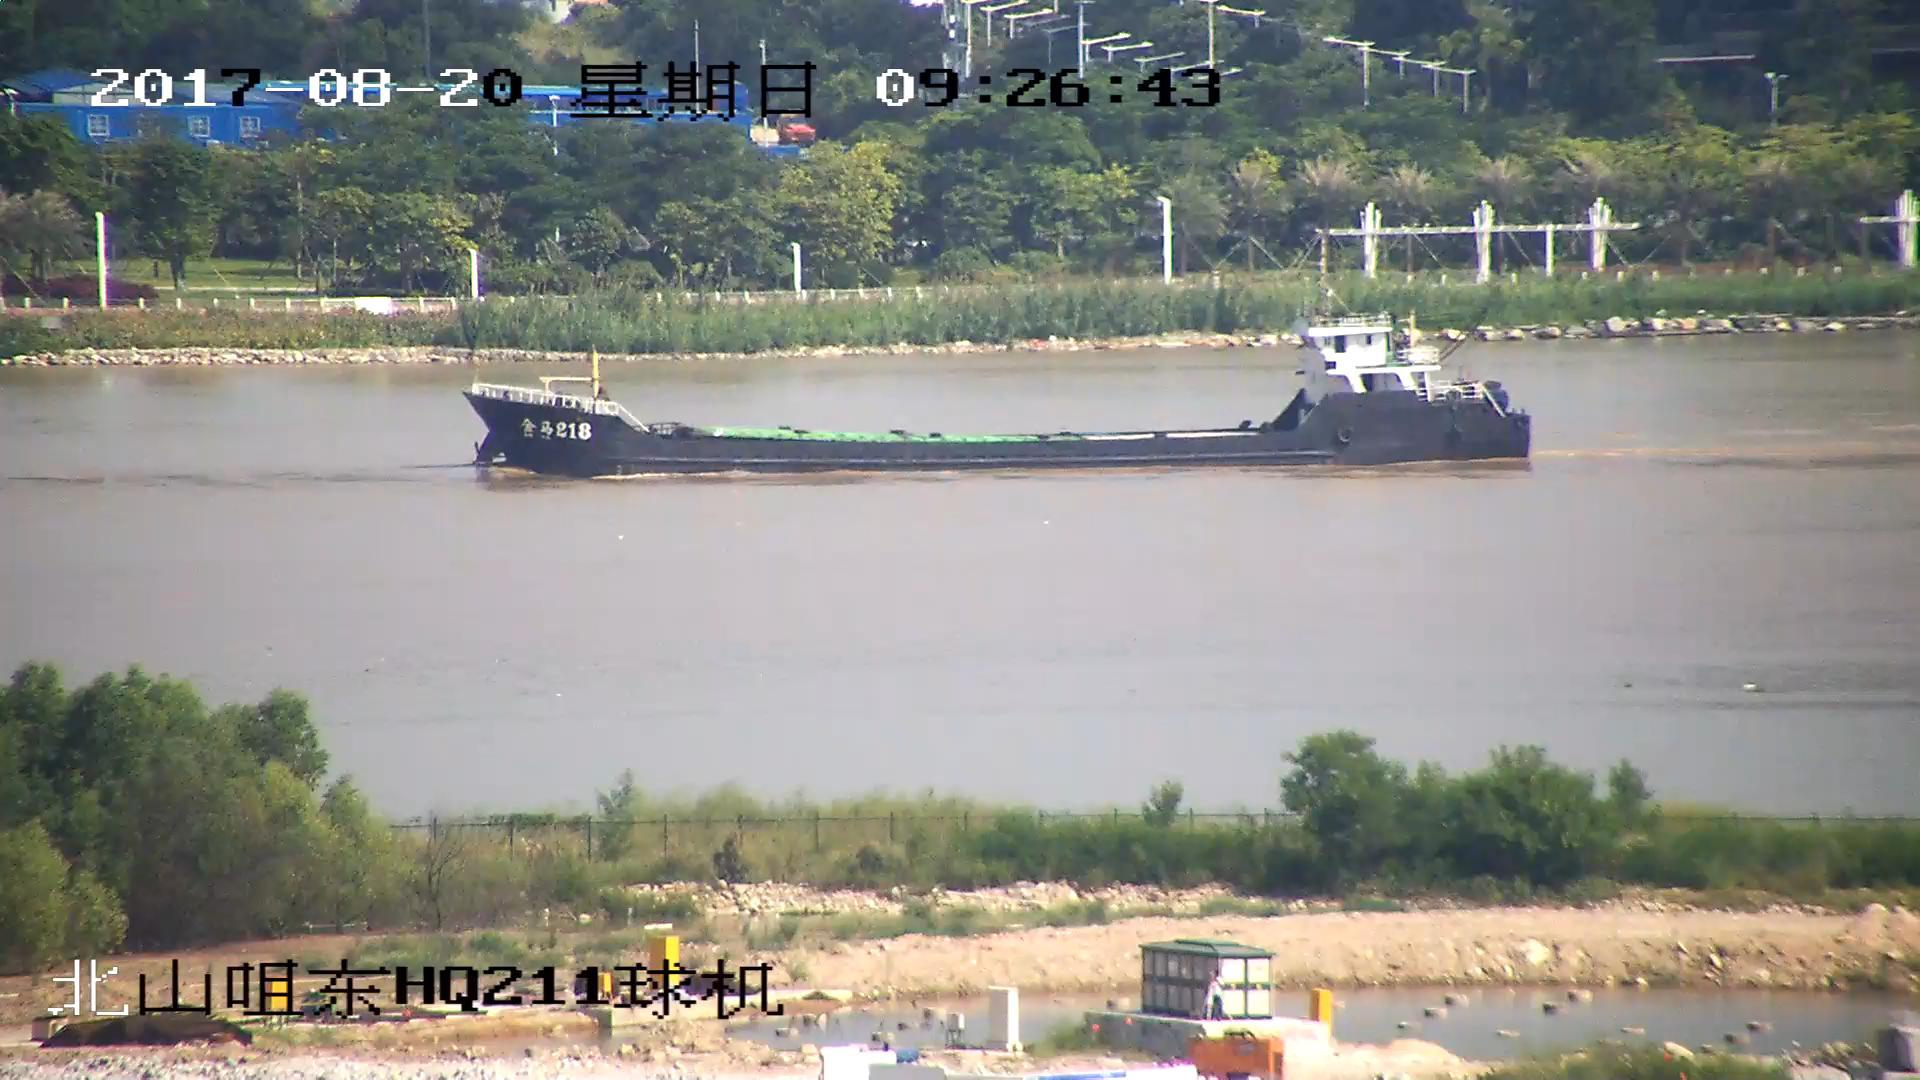Ship: (480, 313, 1530, 477)
